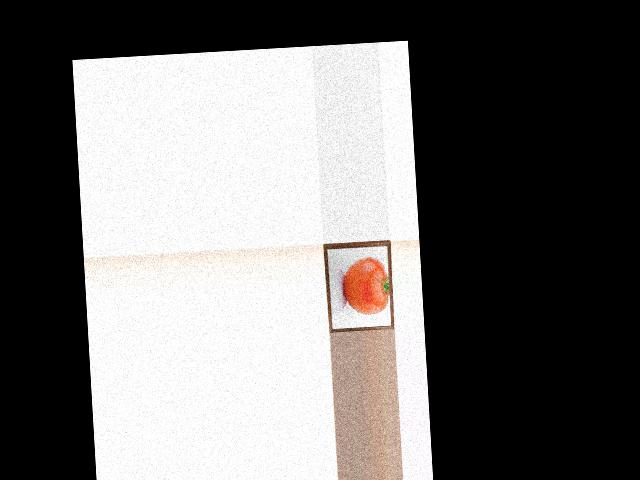tomato: (341, 256, 390, 315)
